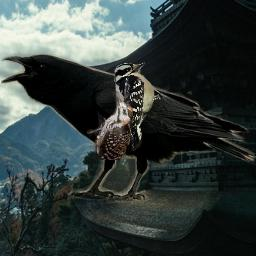Crow: (1, 54, 256, 203)
Woodpecker: (113, 61, 168, 151), (87, 90, 133, 160)
